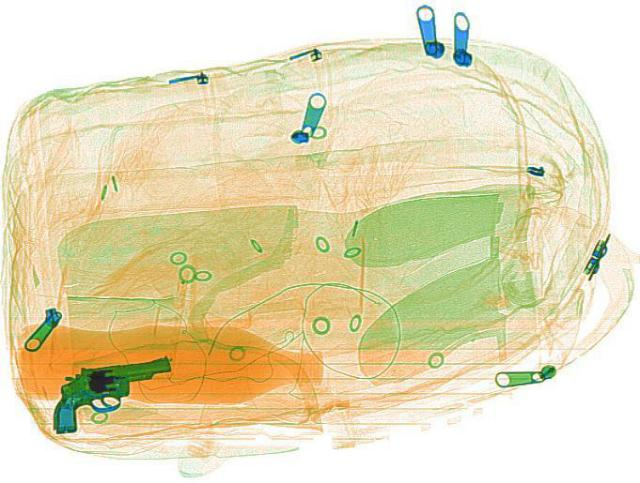Gun: (35, 355, 183, 433)
